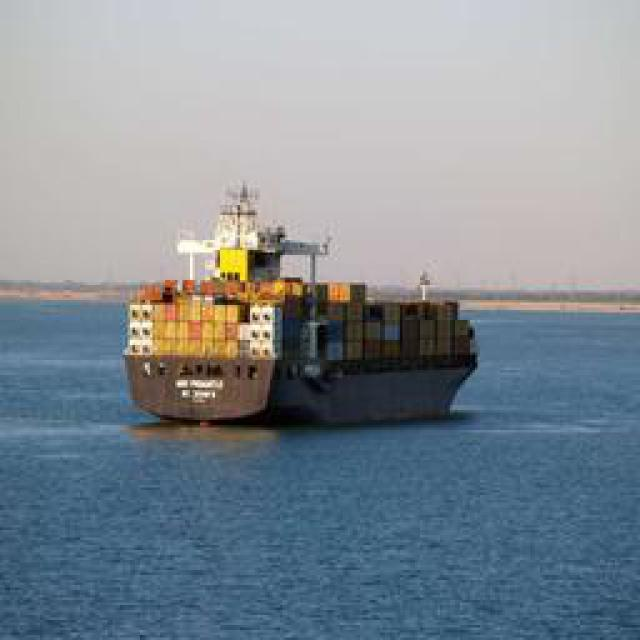Ship: (126, 194, 479, 427)
